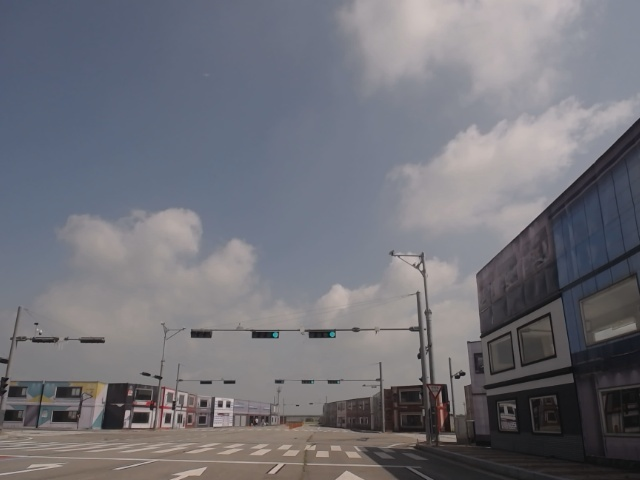straight_green_4: (251, 330, 280, 339), (309, 329, 335, 338)
